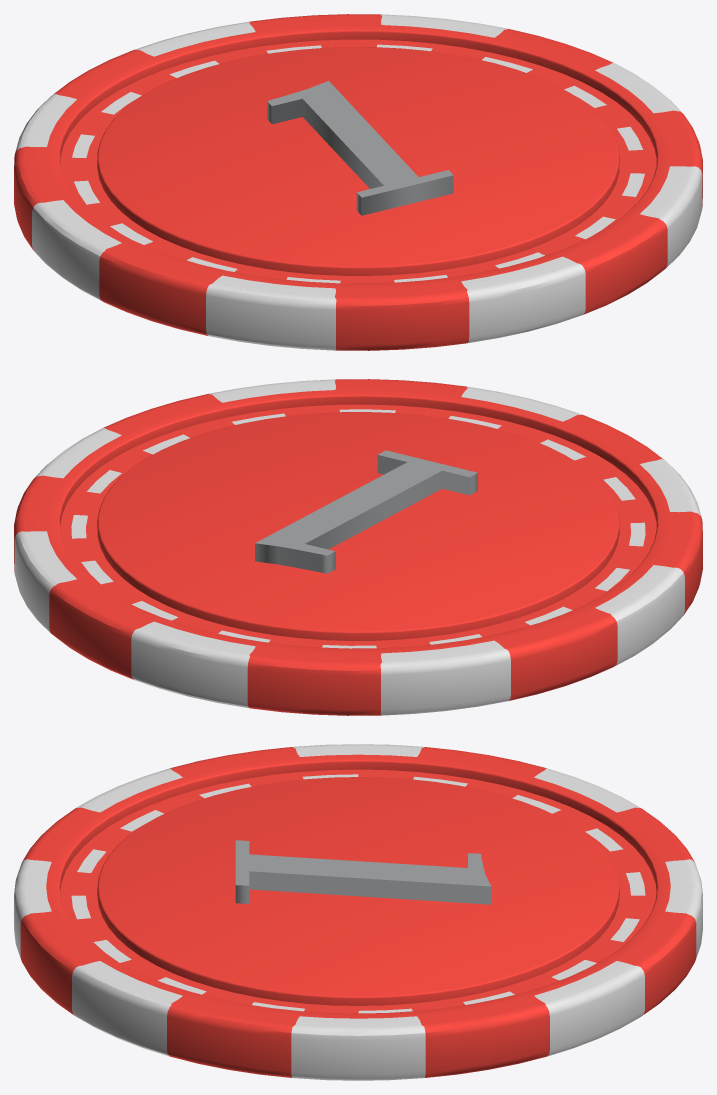
Rendered from 1_coin.glb.
The picture shows the model from 3 angles, top to bottom: view 1: azimuth 30°, elevation 25°; view 2: azimuth 150°, elevation 25°; view 3: azimuth 270°, elevation 25°; orthographic projection.
Parts seen in each view (by area): view 1: Chip.008, Text.001; view 2: Chip.008, Text.001; view 3: Chip.008, Text.001.
Part boxes in pixels (x1=…): Chip.008: x1=14, y1=14, x2=702, y2=350; Text.001: x1=267, y1=81, x2=453, y2=215; Chip.008: x1=14, y1=379, x2=702, y2=715; Text.001: x1=255, y1=450, x2=477, y2=573; Chip.008: x1=14, y1=744, x2=702, y2=1080; Text.001: x1=235, y1=840, x2=491, y2=904.
Bounding box in the file's own units: 5.28 × 0.6688 × 5.28.
